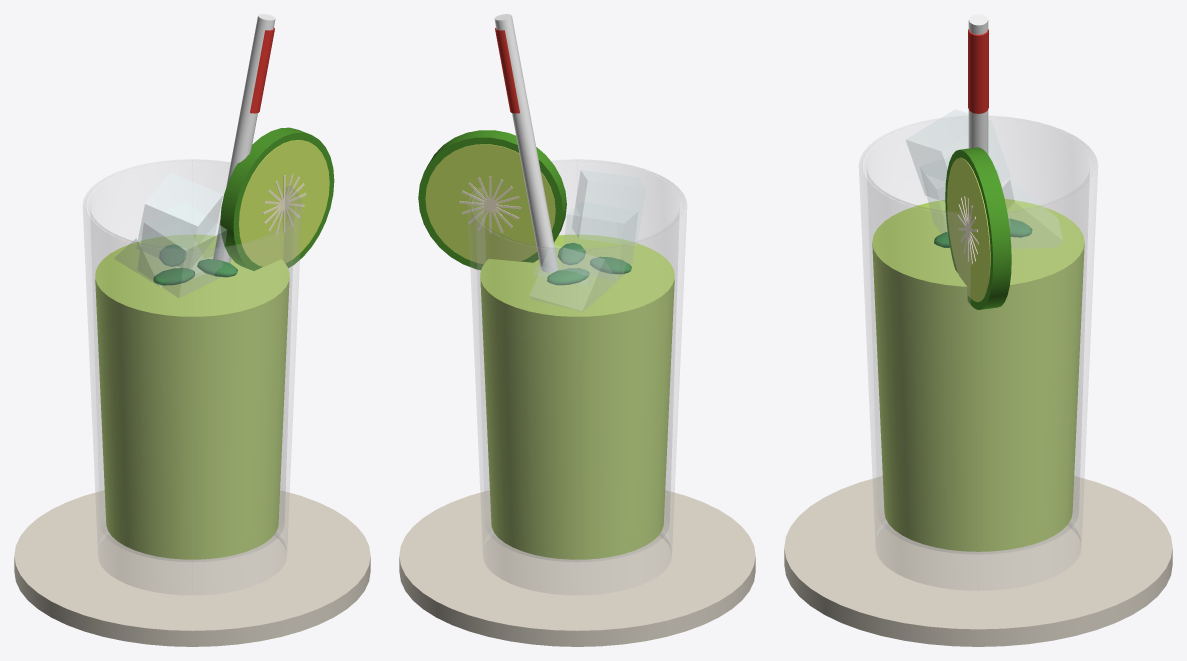
The model's file is limonada.glb.
The picture shows the model from 3 angles, left to right: view 1: azimuth 30°, elevation 25°; view 2: azimuth 150°, elevation 25°; view 3: azimuth 270°, elevation 25°; orthographic projection. The views are drawn at different scales.
Visible parts, largest first — view 1: limonada, copo, gelo, hortela, gomos; view 2: limonada, copo, gelo, hortela, gomos; view 3: limonada, copo, gelo, gomos.
Part boxes in pixels (box(x1,y1,x2,y2)): limonada: box(14, 14, 370, 646); copo: box(83, 159, 301, 594); gelo: box(115, 172, 226, 297); hortela: box(153, 244, 237, 285); gomos: box(263, 173, 306, 234); limonada: box(399, 14, 755, 646); copo: box(468, 159, 686, 594); gelo: box(530, 170, 645, 311); hortela: box(547, 242, 631, 285); gomos: box(459, 176, 521, 233); limonada: box(784, 14, 1172, 646); copo: box(859, 116, 1097, 590); gelo: box(906, 109, 1062, 248); gomos: box(957, 196, 978, 264).
Bounding box in the file's own units: 0.12 × 0.1999 × 0.12.
